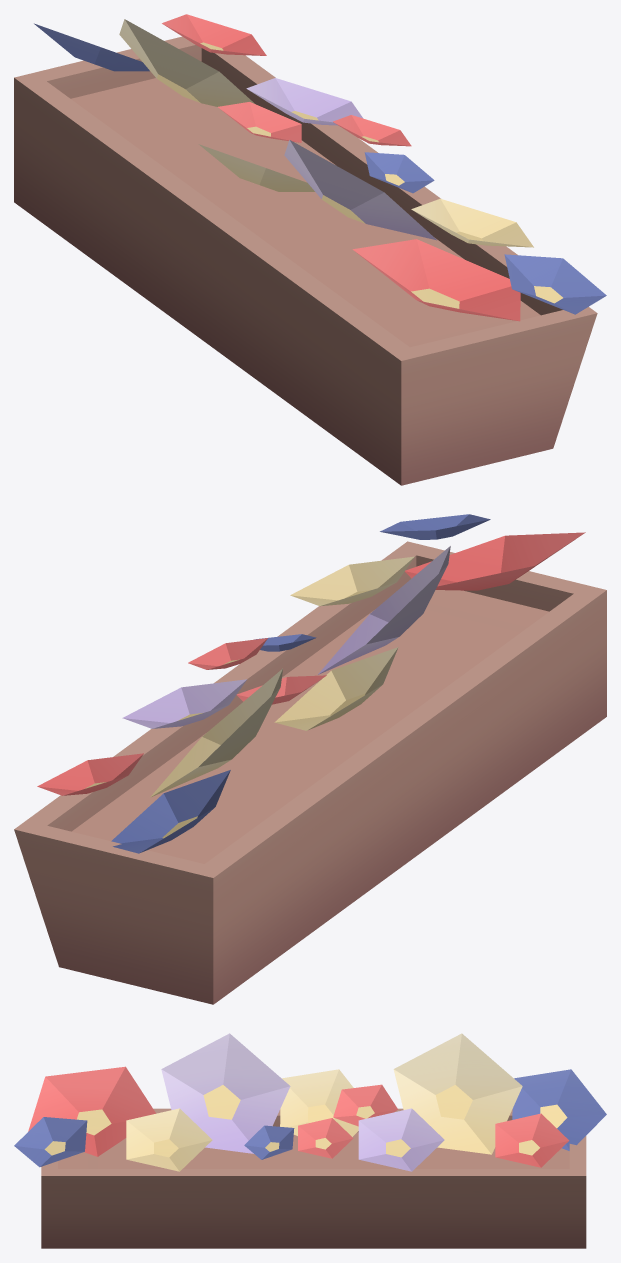
The model's file is FlowerPot.glb.
3 views of the same model, one above another, from view 1: azimuth 30°, elevation 25°; view 2: azimuth 150°, elevation 25°; view 3: azimuth 270°, elevation 25° (orthographic). The views are drawn at different scales.
Parts seen in each view (by area): view 1: Cube.013; view 2: Cube.013; view 3: Cube.013.
Part boxes in pixels (box(x1,y1,x2,y2)): Cube.013: box(14, 14, 606, 485); Cube.013: box(14, 514, 606, 1004); Cube.013: box(14, 1033, 606, 1248).
Size of the model in its own units: 0.3585 by 0.389 by 1.22.
Materials: 1 (1 with a texture image).
